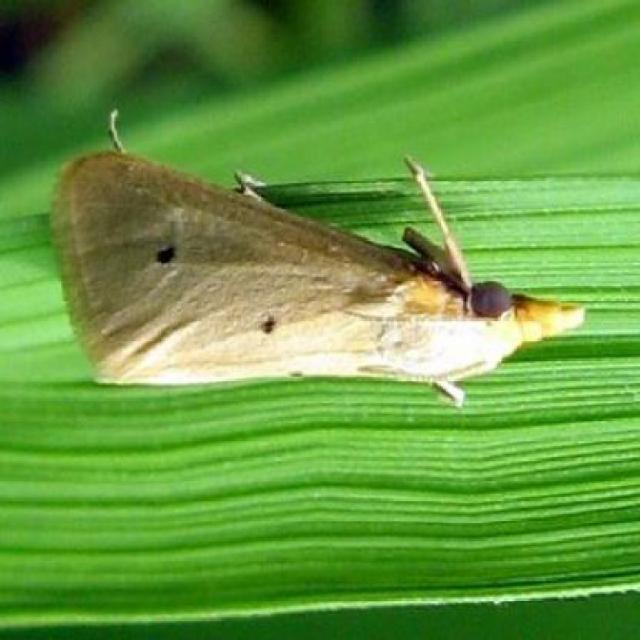stem-borer: (45, 105, 588, 413)
